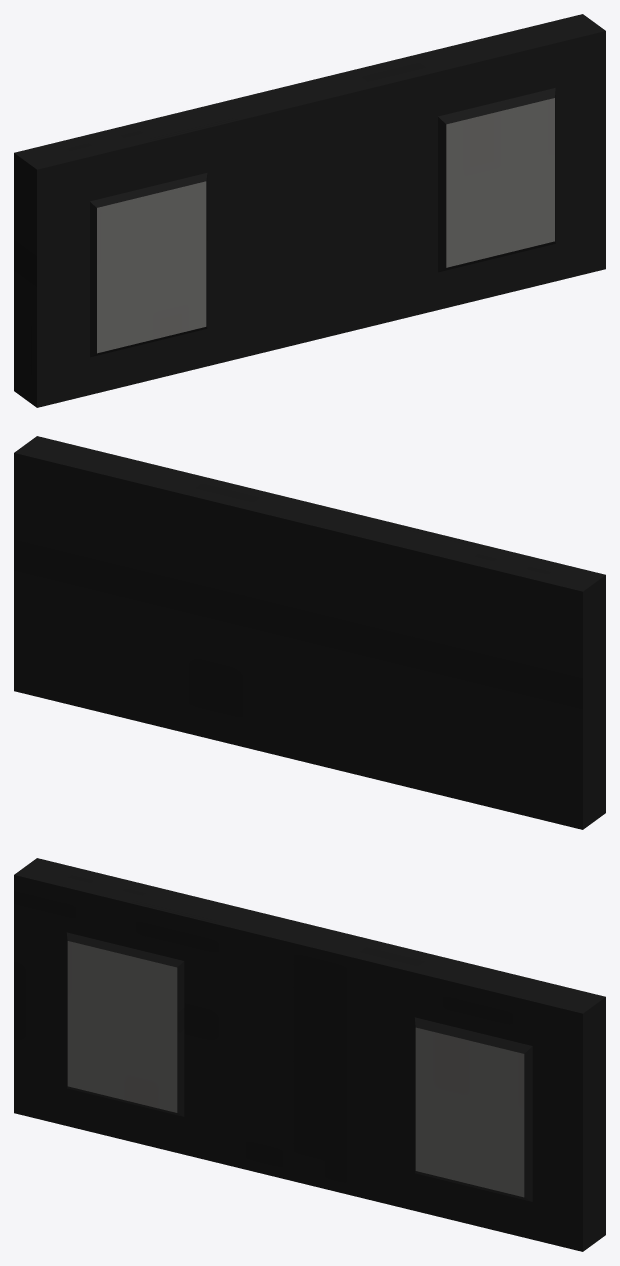
Rendered from Tablero de numero.fbx.
3 renders of one model, top to bottom at view 1: azimuth 30°, elevation 25°; view 2: azimuth 150°, elevation 25°; view 3: azimuth 330°, elevation 25°, orthographic.
Visible parts, largest first — view 1: Cube.002; view 2: Cube.002; view 3: Cube.002.
Boxes of the visible parts, box(x1,y1,x2,y2) form: Cube.002: box(14, 14, 605, 407); Cube.002: box(14, 436, 605, 829); Cube.002: box(14, 858, 605, 1251).
Size of the model in its own units: 739 by 296 by 60.47.
1 material, 1 textured.
